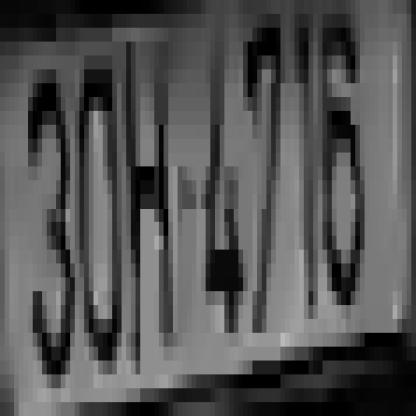0: (75, 56, 121, 360)
3: (28, 56, 75, 375)
4: (201, 42, 238, 319)
6: (318, 28, 360, 291)
7: (243, 28, 285, 319)
H: (121, 69, 173, 333)
